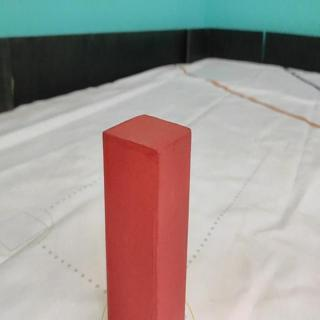redbox: (103, 113, 192, 320)
